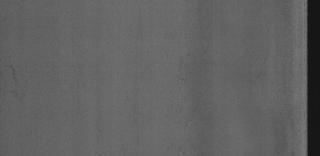water spot: (10, 62, 32, 106)
